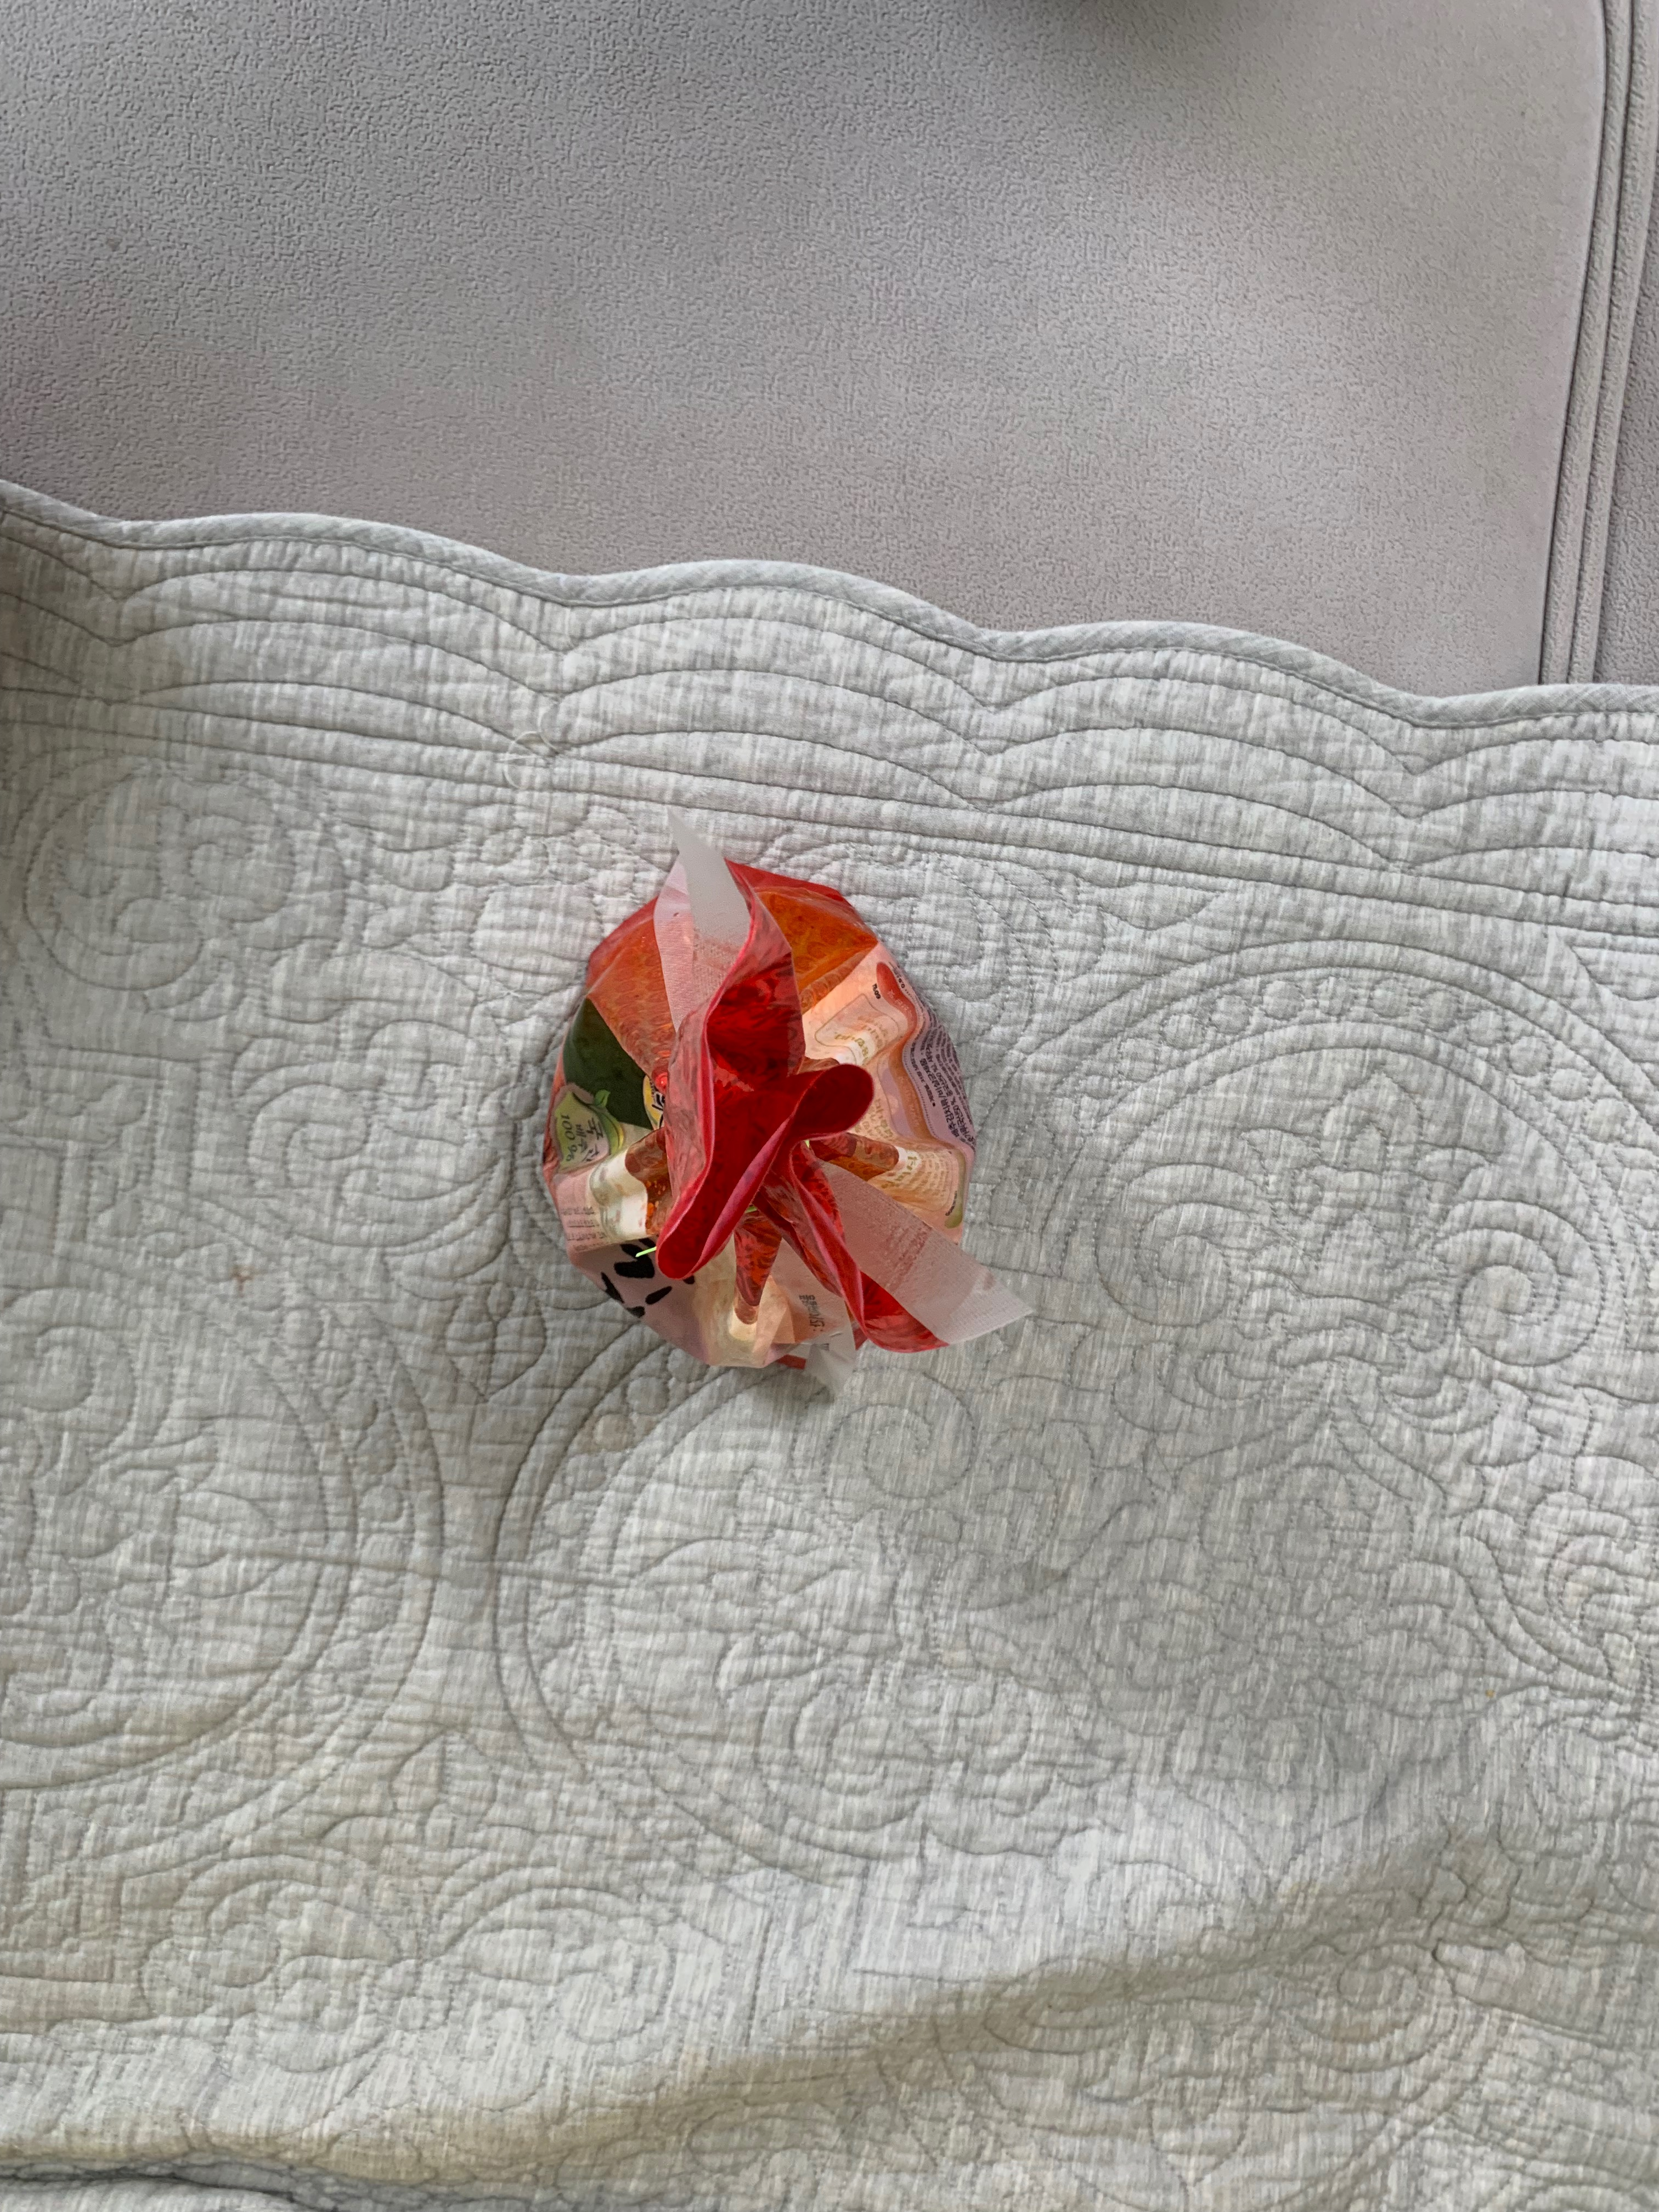kimchi: (547, 864, 974, 1367)
